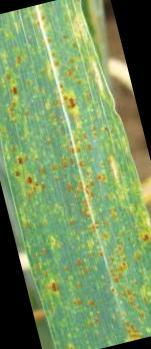Wheat: (19, 170, 148, 349), (7, 88, 105, 164), (3, 22, 76, 87)
